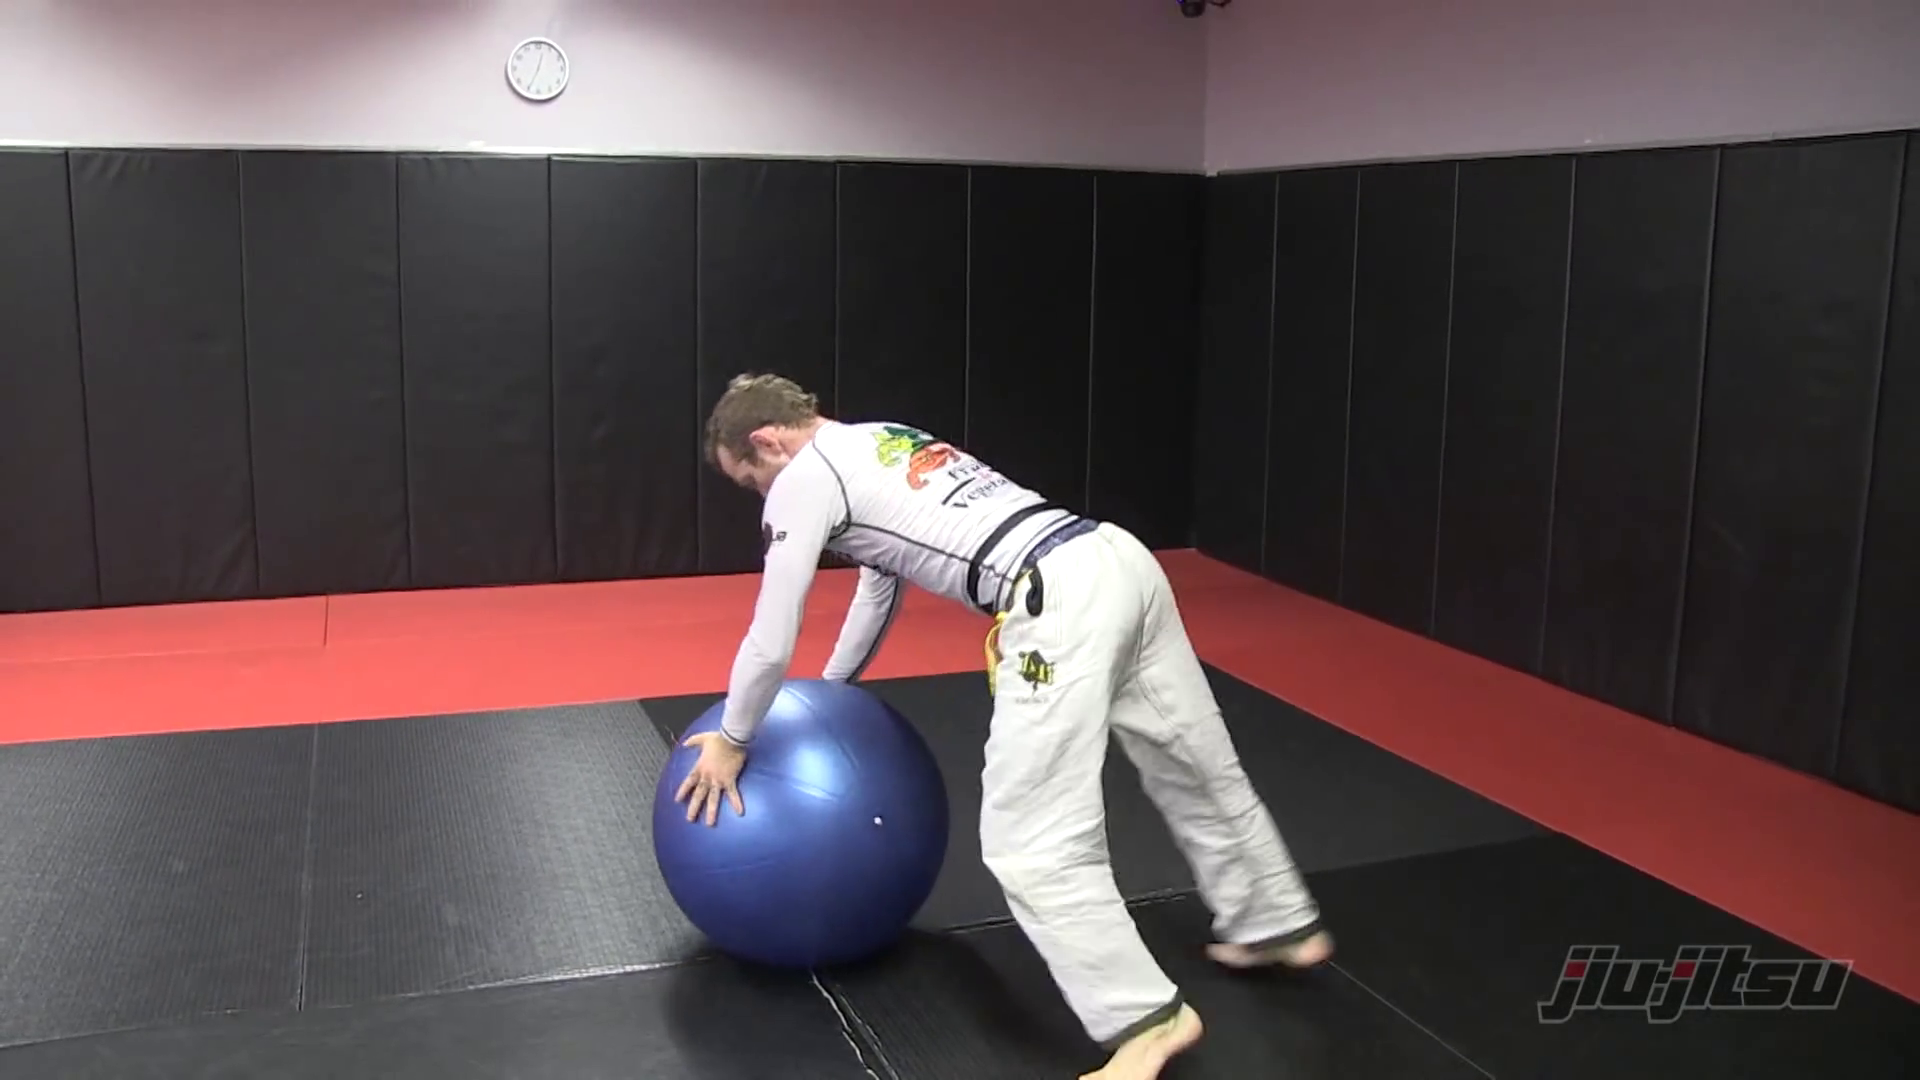yogaball: (641, 678, 960, 973)
